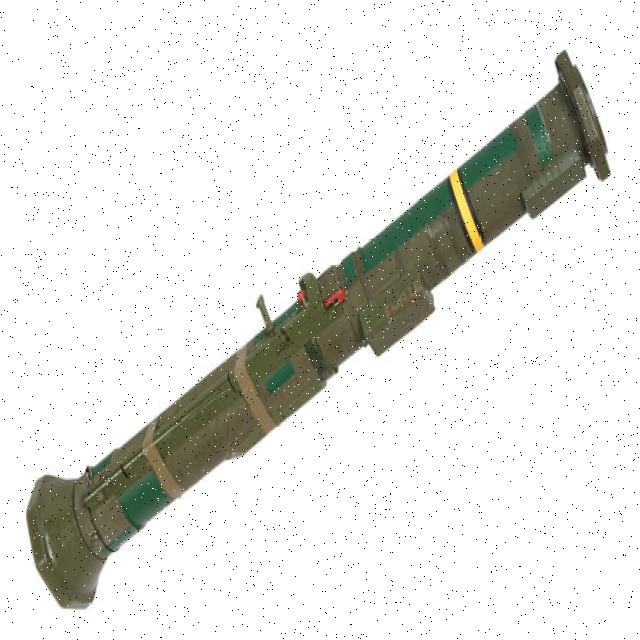bazooka: (19, 49, 618, 625)
